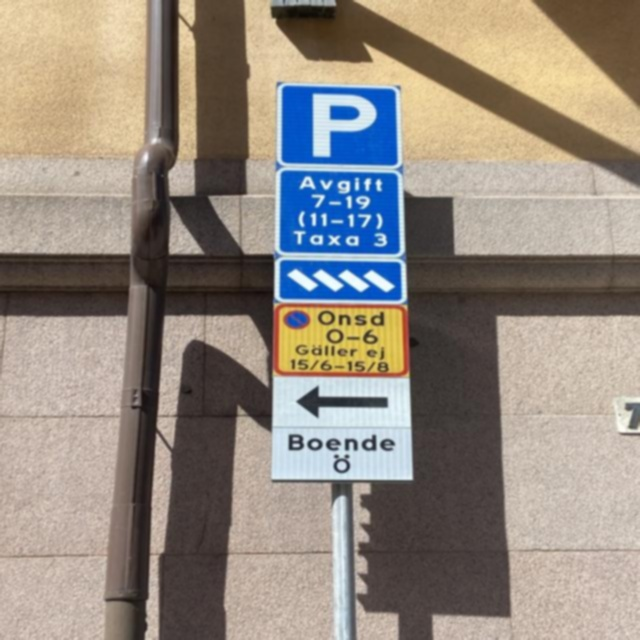P-skylt: (276, 82, 402, 169)
